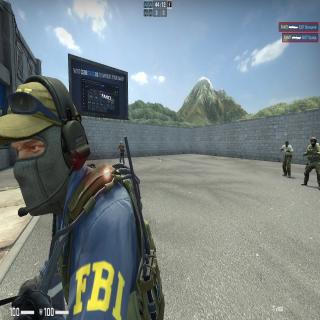CT-Body: (305, 136, 319, 186)
CT-Head: (10, 78, 78, 216), (310, 137, 316, 148)
T-Body: (282, 139, 292, 176), (120, 142, 124, 162)
T-Head: (285, 140, 289, 148), (120, 141, 123, 146)
